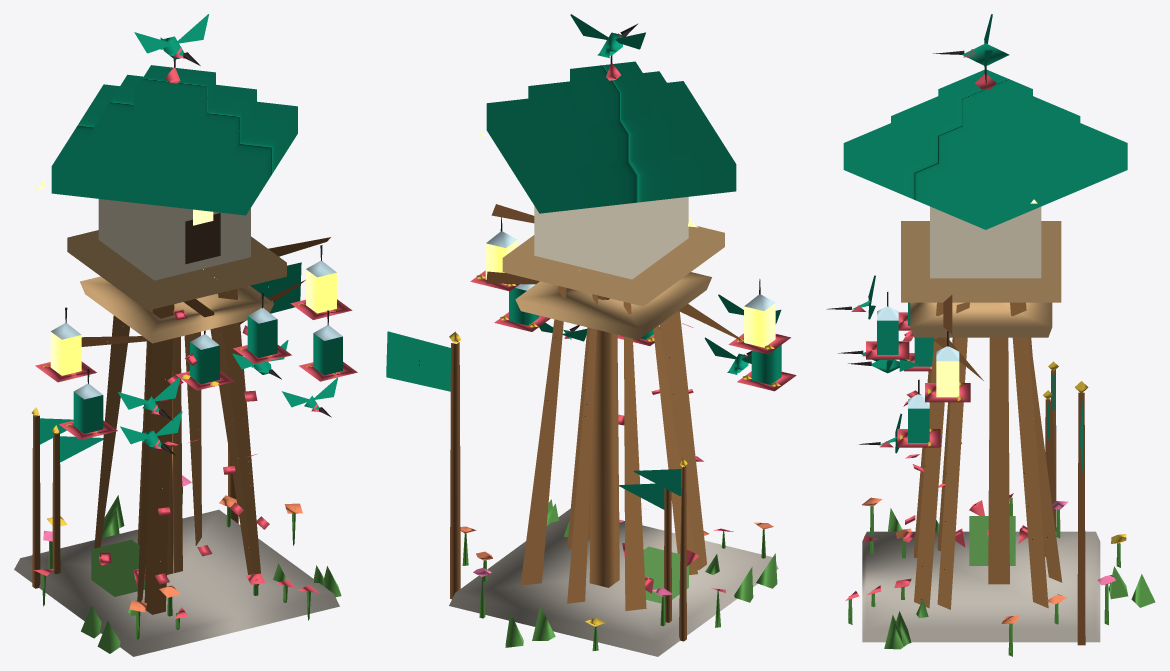
File: hummingbird-feeder-tower-blocky_lod1.glb
3 views of the same model, side by side, from view 1: azimuth 30°, elevation 25°; view 2: azimuth 150°, elevation 25°; view 3: azimuth 270°, elevation 25° (orthographic).
Visible parts, largest first — view 1: lv3, lv2, lv1; view 2: lv3, lv2, lv1; view 3: lv3, lv2, lv1.
Part boxes in pixels (x1,y1,x2,y2): lv3: [14, 14, 352, 656]; lv2: [43, 276, 357, 638]; lv1: [91, 299, 288, 616]; lv3: [386, 14, 790, 656]; lv2: [476, 271, 796, 640]; lv1: [563, 294, 719, 603]; lv3: [826, 14, 1155, 656]; lv2: [838, 302, 1127, 645]; lv1: [848, 337, 1027, 618].
Bounding box in the file's own units: 1.66 × 2.79 × 1.48.
